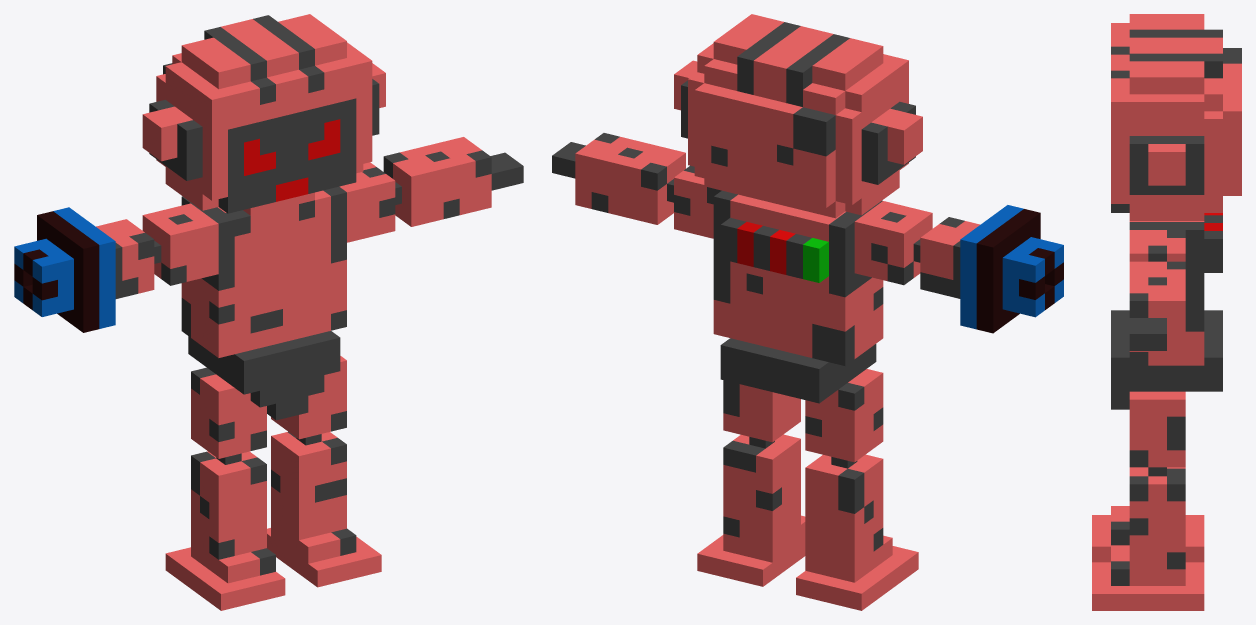
File: robot_bad_enemy.glb
The picture shows the model from 3 angles, left to right: view 1: azimuth 30°, elevation 25°; view 2: azimuth 150°, elevation 25°; view 3: azimuth 270°, elevation 25°; orthographic projection. The views are drawn at different scales.
Visible parts, largest first — view 1: Object_2; view 2: Object_2; view 3: Object_2.
Boxes of the visible parts, box(x1,y1,x2,y2) form: Object_2: box(14, 14, 523, 610); Object_2: box(552, 14, 1063, 610); Object_2: box(1092, 14, 1241, 610).
Bounding box in the file's own units: 3 × 3.1 × 0.8.
Materials: 1 (1 with a texture image).
